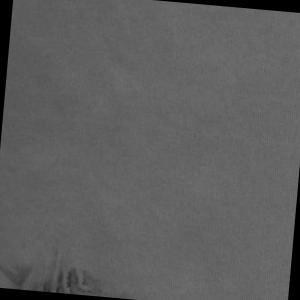Stain: (1, 240, 140, 300)
Wrinkle: (3, 1, 300, 211)
